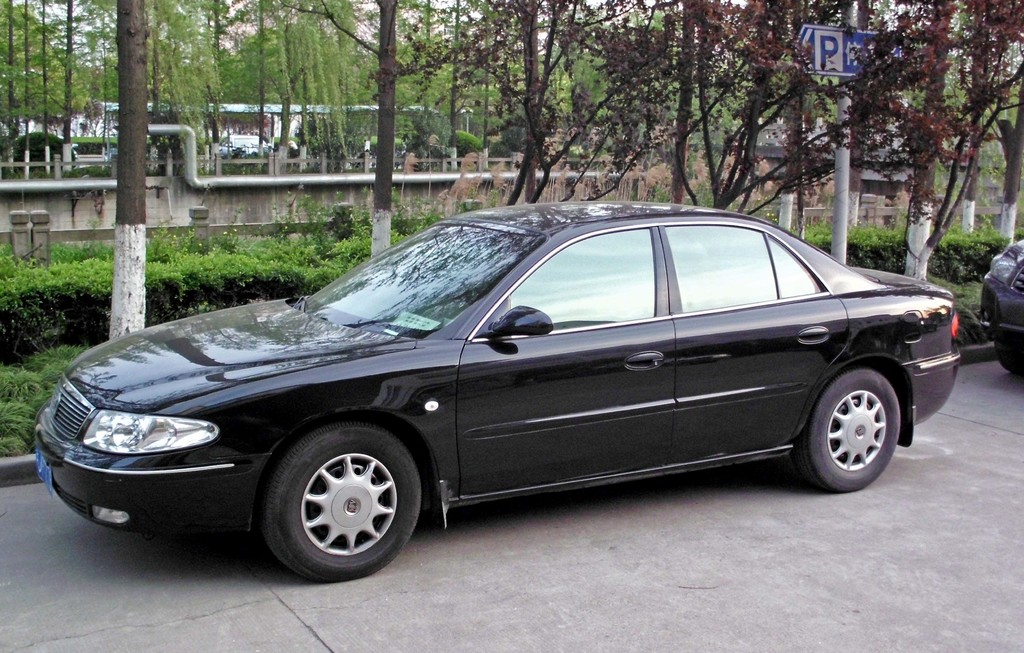Tree: (0, 0, 1023, 341)
